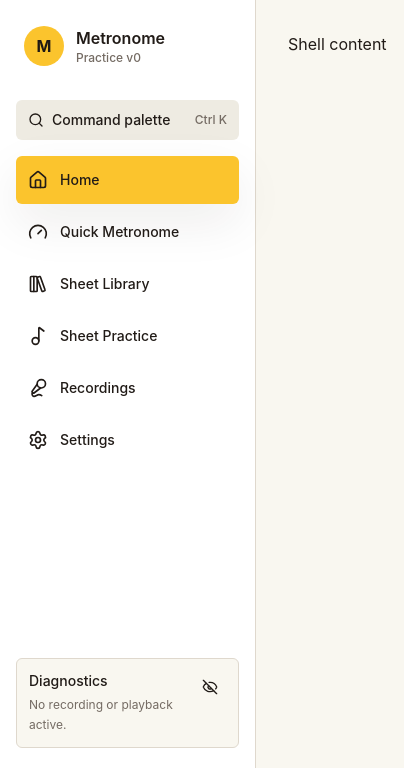
Scenario: AppShell › keeps diagnostics recoverable after hiding devtools for the session
Expected: the element with test id "diagnostics-panel" is shown, [16,658,239,748]
Click the button named "Hide devtools for this session".
click(210, 687)  # box [194,671,226,703]
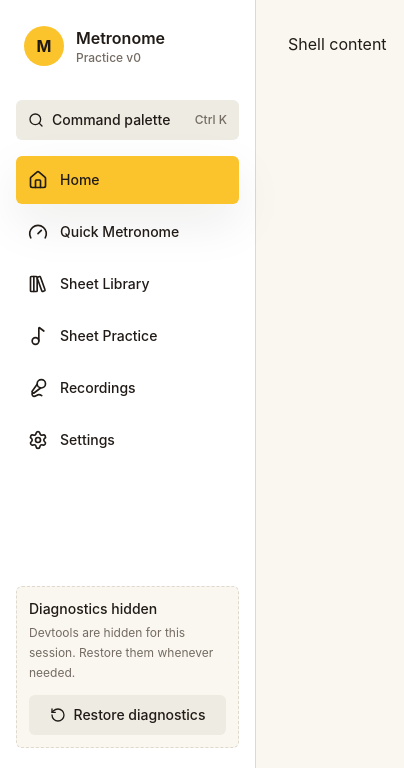
Result: the element with test id "diagnostics-restore" is shown at [16,586,239,748]
Result: the button "Restore diagnostics" is shown
Click the button "Restore diagnostics".
click(128, 715)  # box [29,695,226,735]
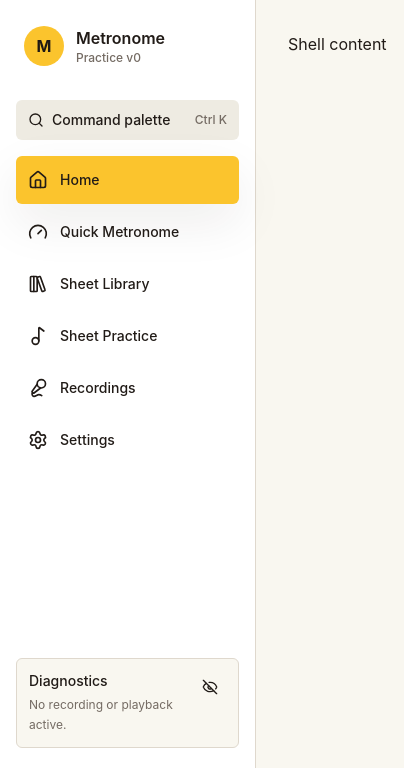
Result: the element with test id "diagnostics-panel" is shown at [16,658,239,748]
